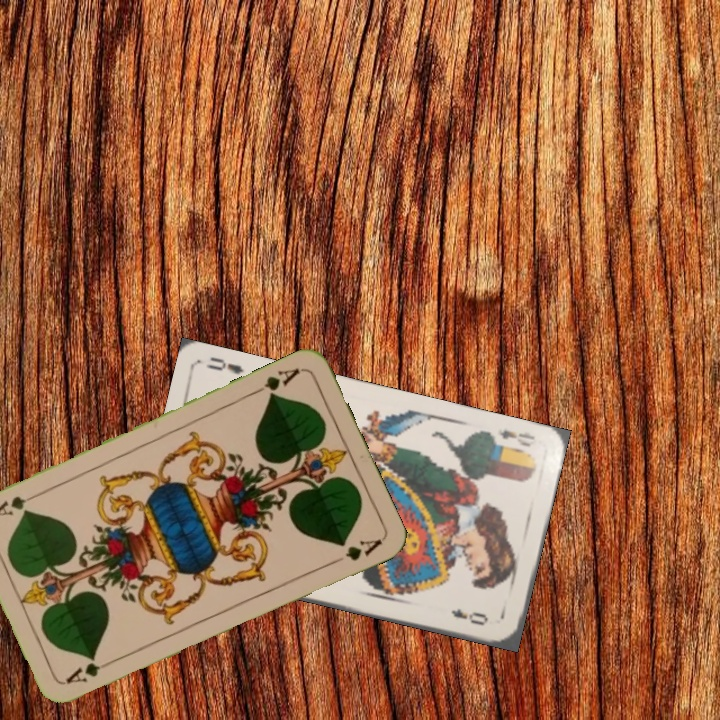EO: (494, 424, 537, 450)
GA: (249, 363, 303, 402), (61, 655, 118, 686)
